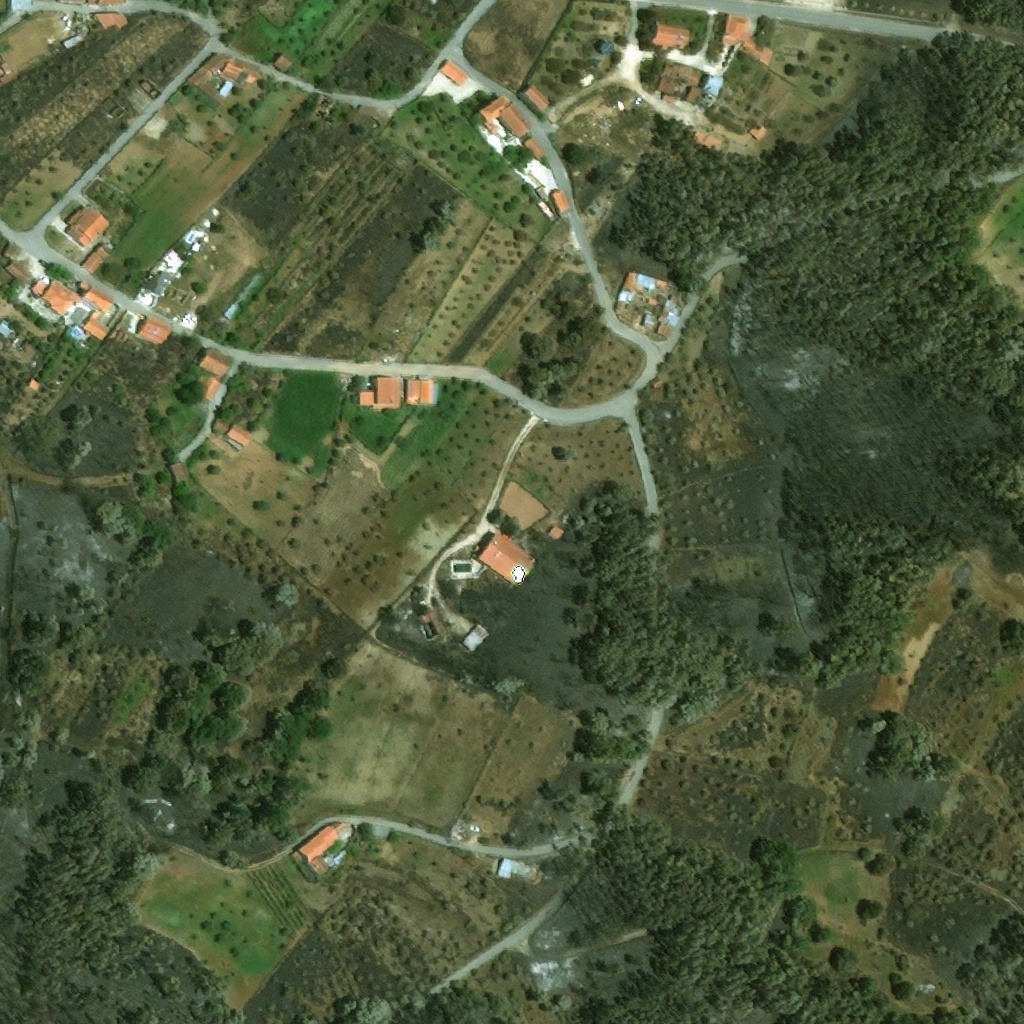0 no-damage: (478, 531, 536, 587), (720, 15, 774, 67), (30, 278, 81, 317), (82, 284, 115, 340), (67, 205, 111, 247), (290, 826, 341, 860), (499, 104, 533, 138), (652, 21, 690, 51), (198, 347, 233, 378), (222, 60, 261, 85), (140, 315, 171, 344), (657, 299, 680, 338), (481, 95, 513, 122), (193, 373, 222, 401), (440, 59, 469, 86), (83, 246, 110, 275), (524, 84, 551, 111), (226, 422, 255, 446), (6, 261, 35, 284), (377, 377, 400, 404), (95, 12, 129, 29), (204, 53, 229, 75), (189, 67, 214, 88), (525, 138, 548, 160), (172, 462, 192, 487), (274, 51, 295, 73), (200, 83, 224, 102), (211, 415, 233, 435), (29, 254, 49, 275), (4, 241, 24, 261), (553, 189, 571, 211), (309, 854, 329, 872), (406, 380, 420, 404), (420, 380, 434, 404), (367, 823, 390, 837), (637, 273, 655, 290), (549, 523, 566, 540), (360, 390, 378, 406), (62, 35, 81, 50), (219, 80, 235, 97), (644, 313, 659, 330), (655, 280, 670, 296), (614, 297, 628, 314), (485, 119, 500, 134), (101, 241, 116, 256), (623, 272, 637, 288), (434, 384, 442, 404), (620, 285, 632, 298), (81, 279, 93, 291), (0, 73, 12, 84), (649, 298, 657, 306)
2 major-damage: (655, 60, 708, 106), (0, 317, 32, 350), (501, 857, 531, 877)
3 destroyed: (421, 608, 446, 640), (452, 817, 472, 839), (140, 80, 159, 97)
4 un-classified: (97, 0, 126, 5), (53, 0, 83, 4), (88, 0, 95, 3)
